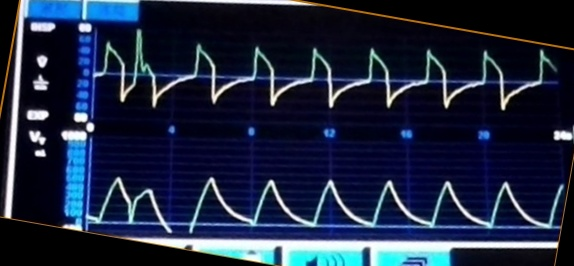Double_Triggering Flow: (92, 26, 457, 118)
Double_Triggering Volume: (87, 168, 454, 234)
